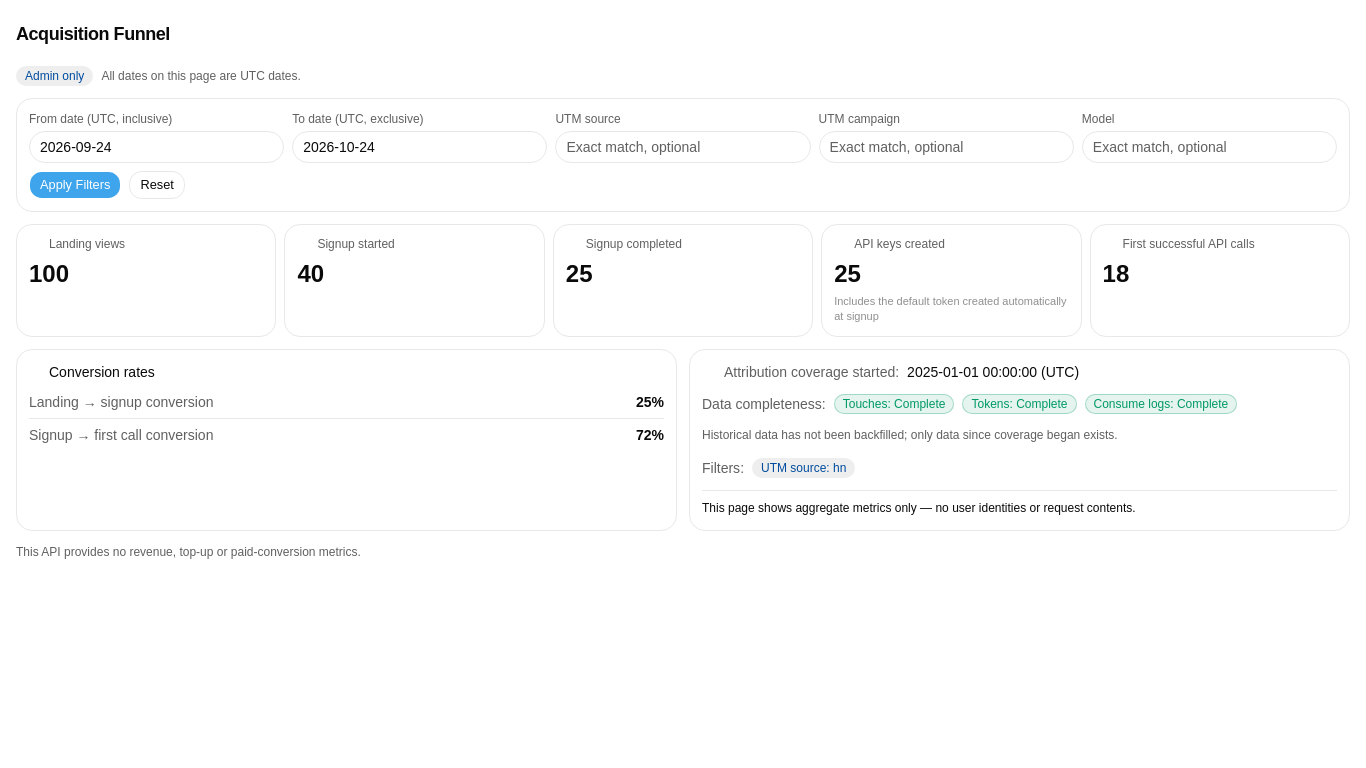
Scenario: acquisition funnel page behavior › does not request when the range exceeds 366 days
expect the text "Landing views" is shown: met, box [49,237,125,252]
Replace the text in the field labelled "From date (UTC, inclusive)" with "2024-01-01" at {"x": 157, "y": 147}, box [29,131,284,163]
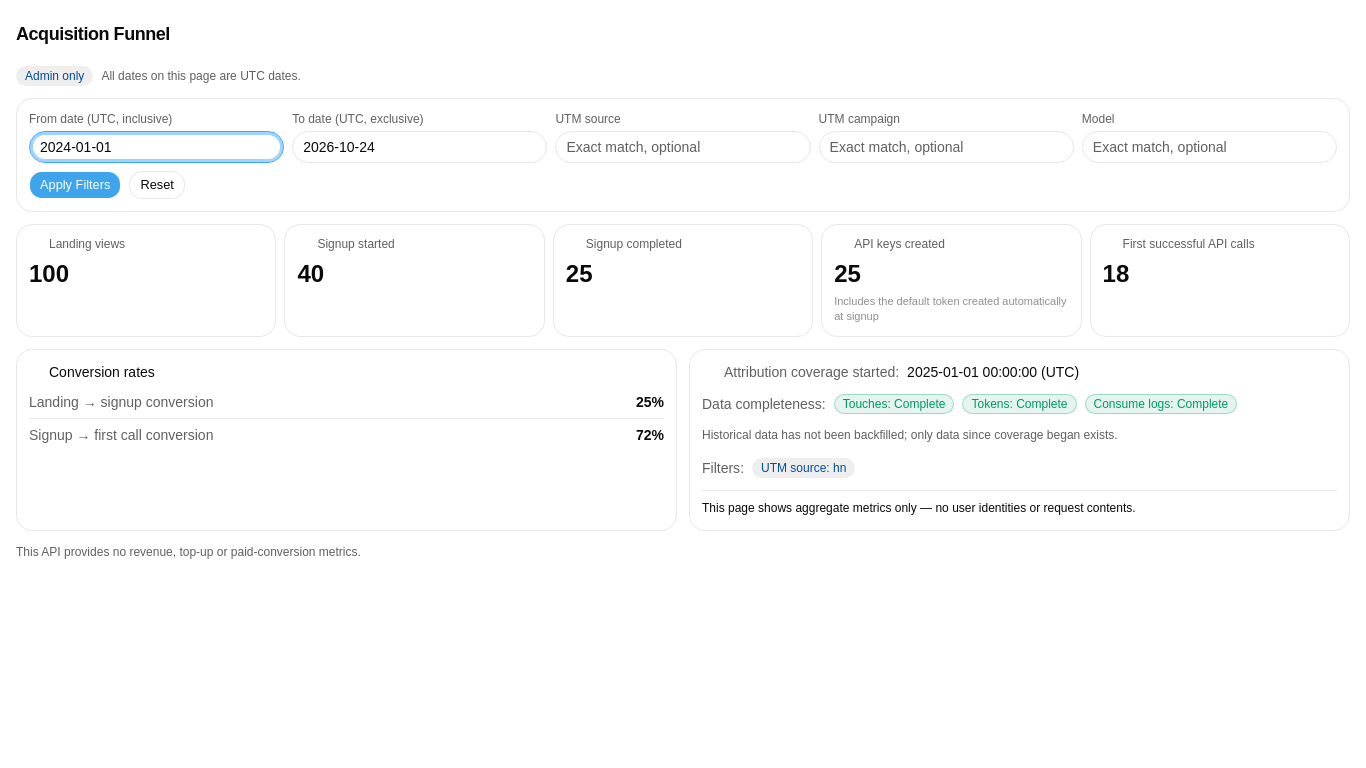
Replace the text in the field labelled "To date (UTC, exclusive)" with "2026-03-01" at {"x": 420, "y": 147}, box [292,131,547,163]
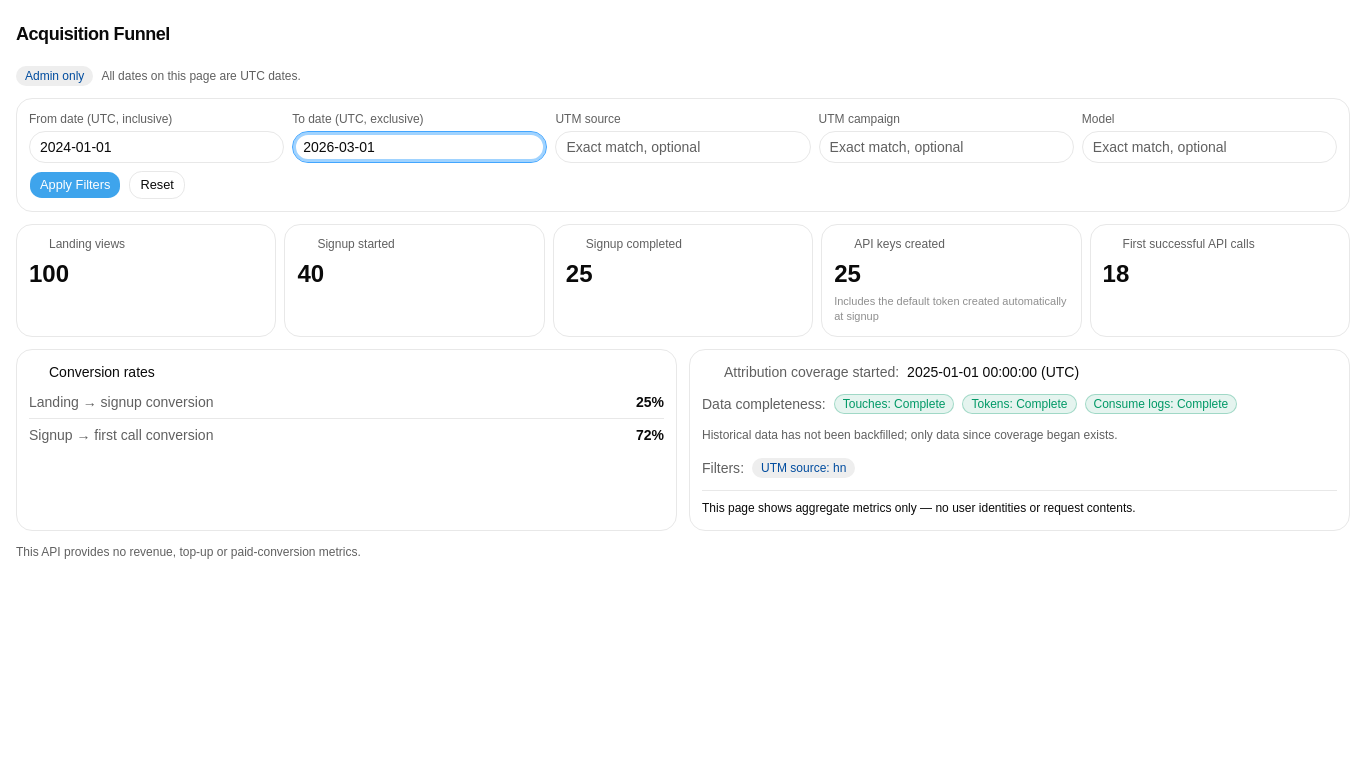
Click the button "Apply Filters" at {"x": 75, "y": 185}, box [29,171,121,199]
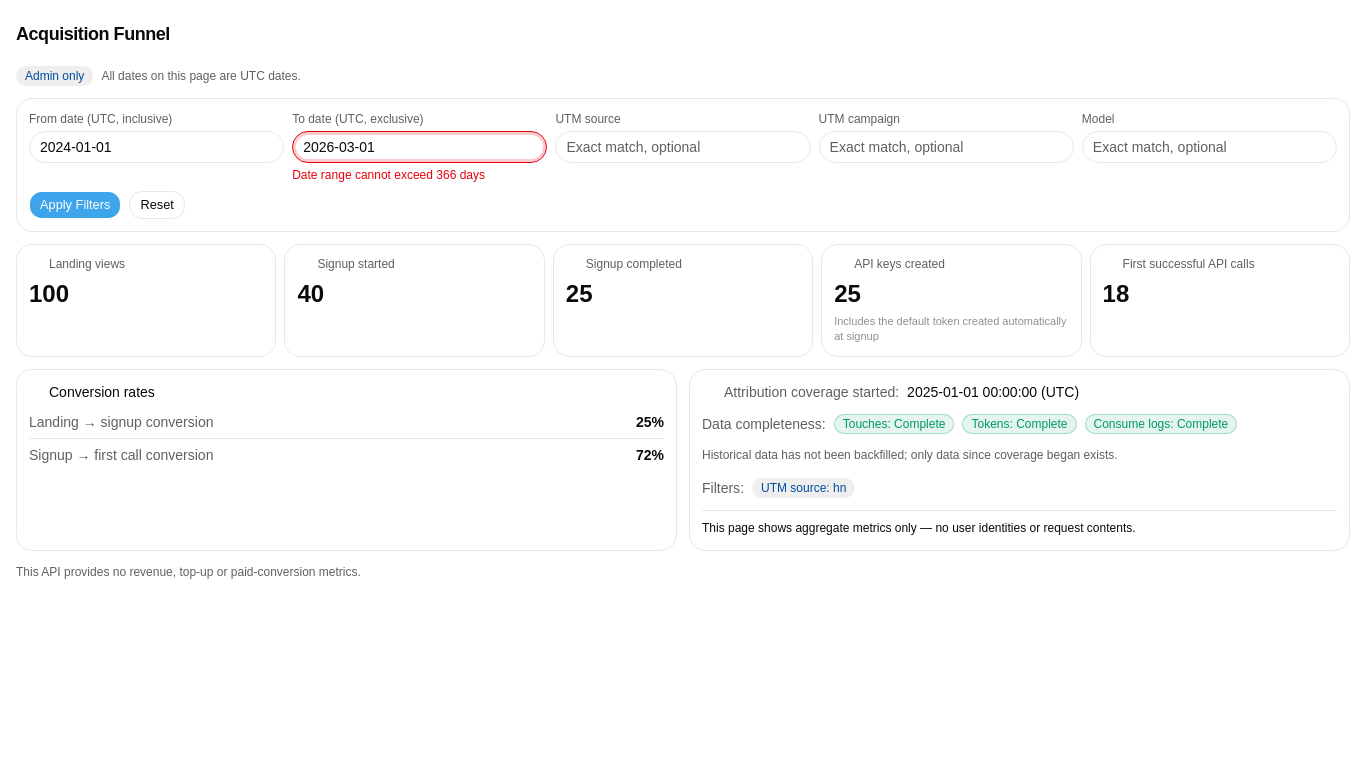
expect the text "Date range cannot exceed 366 days" is shown: met, box [292,168,485,182]
